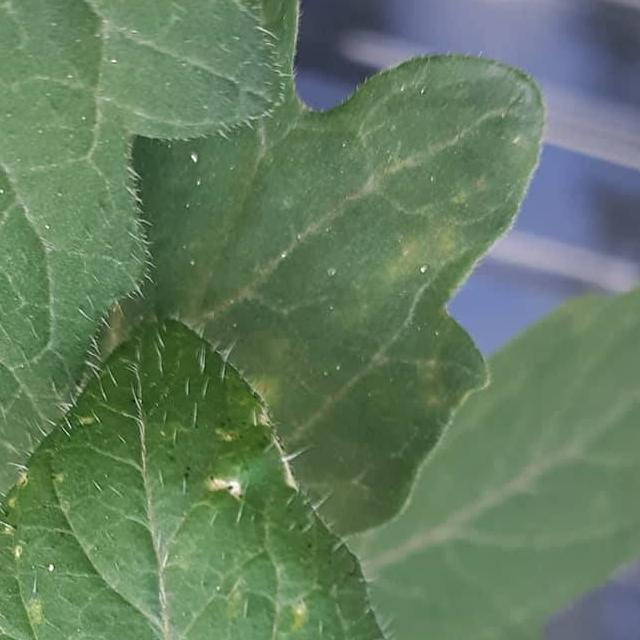Tomato mold leaf: (0, 297, 514, 640), (0, 0, 279, 613)
